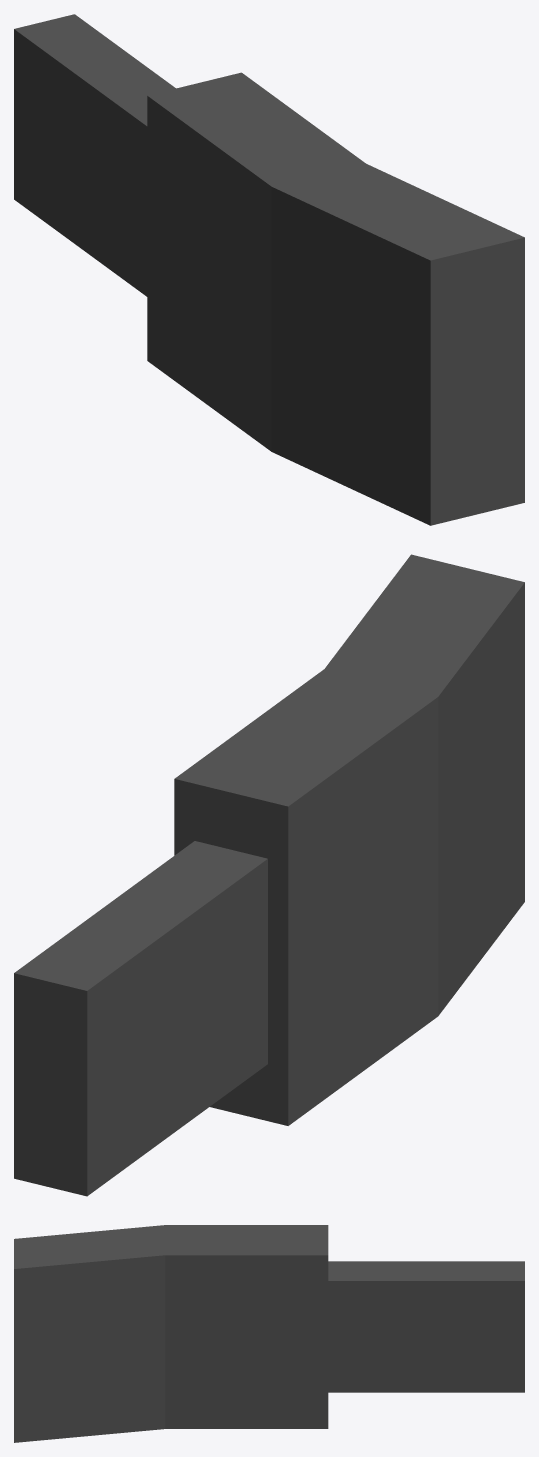
The model's file is SMG5_02_3.fbx.
3 renders of one model, top to bottom at view 1: azimuth 30°, elevation 25°; view 2: azimuth 150°, elevation 25°; view 3: azimuth 270°, elevation 25°, orthographic. The views are drawn at different scales.
Parts seen in each view (by area): view 1: SMG5_02_3; view 2: SMG5_02_3; view 3: SMG5_02_3.
Part boxes in pixels (x1=…): SMG5_02_3: x1=14, y1=14, x2=524, y2=525; SMG5_02_3: x1=14, y1=554, x2=524, y2=1196; SMG5_02_3: x1=14, y1=1225, x2=524, y2=1442.
Bounding box in the file's own units: 0.00558 × 0.0103 × 0.0273.
